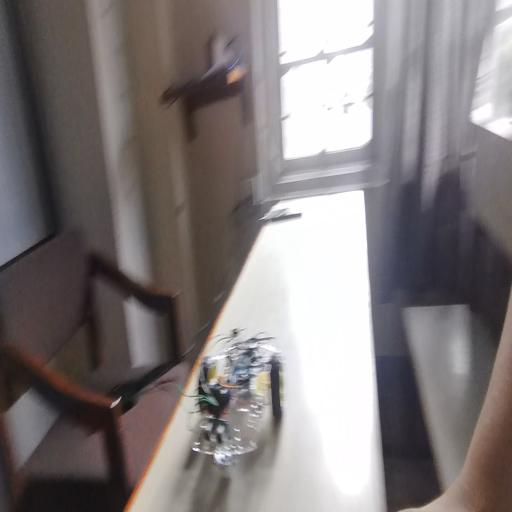car: (199, 323, 285, 512)
